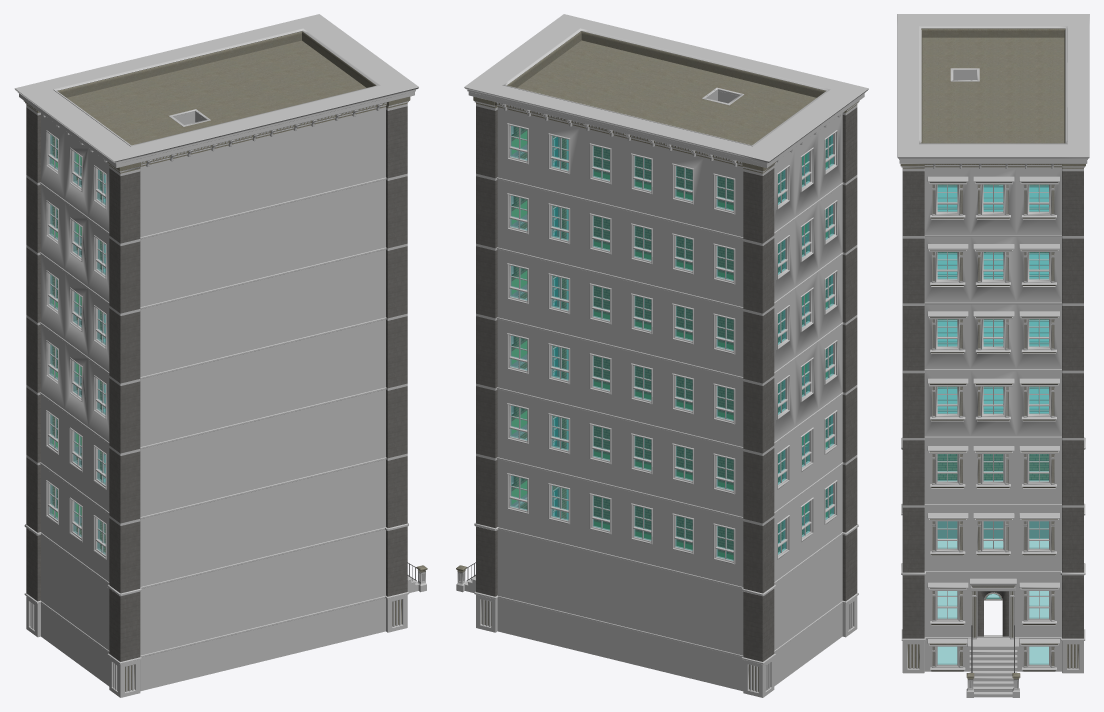
The model's file is Building07_V01.fbx.
The picture shows the model from 3 angles, left to right: view 1: azimuth 30°, elevation 25°; view 2: azimuth 150°, elevation 25°; view 3: azimuth 270°, elevation 25°; orthographic projection. The views are drawn at different scales.
Visible parts, largest first — view 1: Building07_V01; view 2: Building07_V01; view 3: Building07_V01.
Part boxes in pixels (<box>): Building07_V01: <box>14,14,427,697</box>; Building07_V01: <box>456,14,868,697</box>; Building07_V01: <box>897,14,1089,697</box>.
Size of the model in its own units: 2116 by 3134 by 1049.
